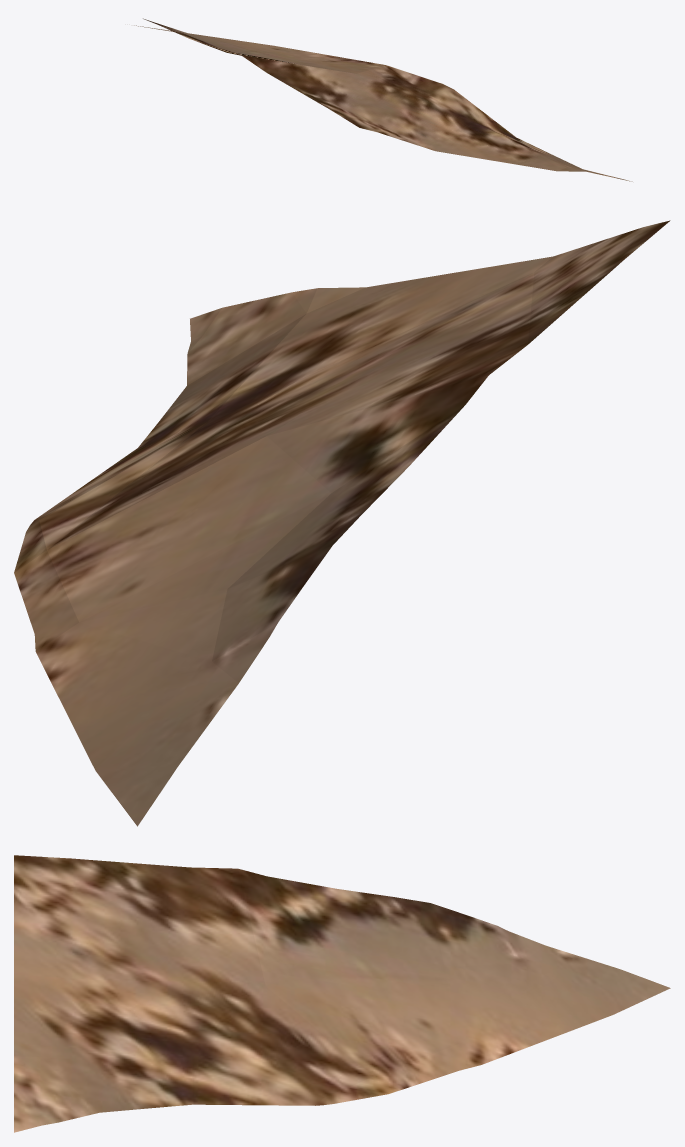
The picture shows the model from 3 angles, top to bottom: view 1: azimuth 30°, elevation 25°; view 2: azimuth 150°, elevation 25°; view 3: azimuth 270°, elevation 25°; orthographic projection. The views are drawn at different scales.
Size of the model in its own units: 0.3437 by 0.1474 by 0.66.
Materials: 1 (1 with a texture image).
